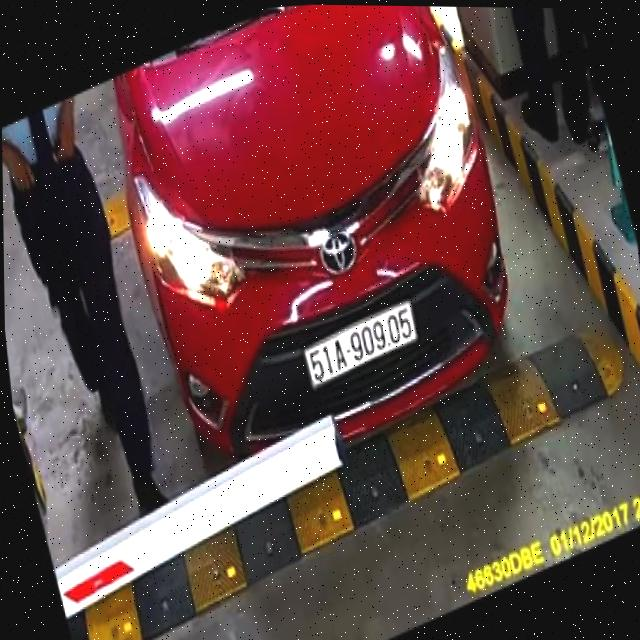car: (101, 1, 547, 499)
plate: (299, 300, 423, 390)
